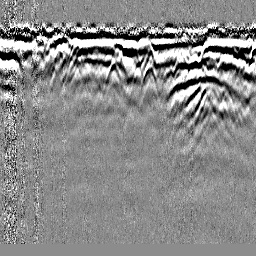cavity: (116, 38, 141, 64)
